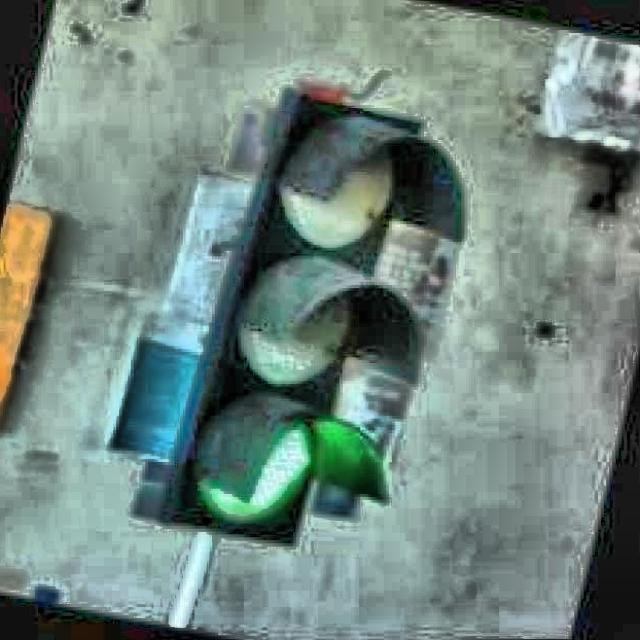green: (170, 49, 384, 558)
